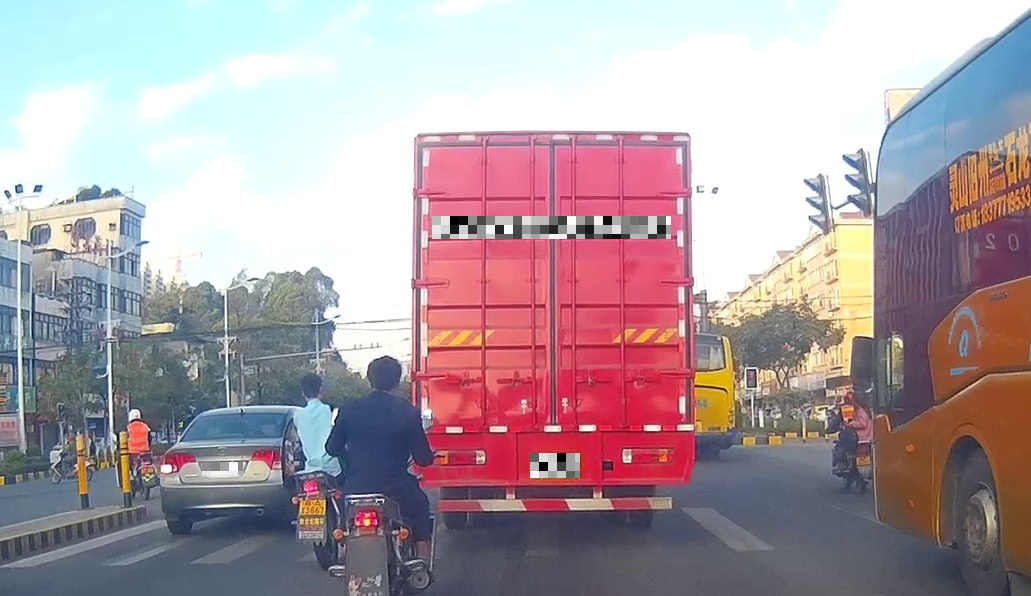L_light: (432, 449, 486, 466), (160, 452, 196, 473)
R_light: (622, 447, 677, 464), (249, 449, 283, 469)
T_light: (534, 144, 571, 160), (233, 411, 250, 415)
day-left: (160, 405, 293, 537)
day-no: (409, 130, 695, 529)
plate_1: (202, 462, 243, 475)
plate_2: (432, 216, 671, 239)
plate_3: (530, 453, 580, 478)
